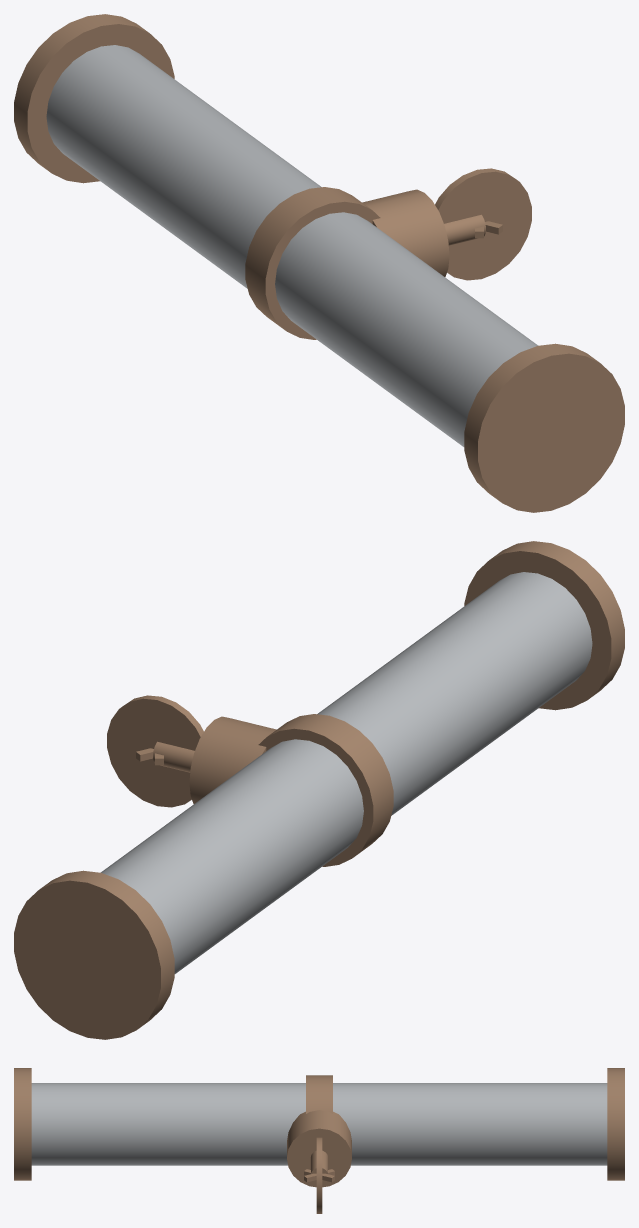
Rendered from PR_pipe_kit.fbx.
3 views of the same model, one above another, from view 1: azimuth 30°, elevation 25°; view 2: azimuth 150°, elevation 25°; view 3: azimuth 270°, elevation 25° (orthographic). The views are drawn at different scales.
Visible parts, largest first — view 1: PR_pipe_kit; view 2: PR_pipe_kit; view 3: PR_pipe_kit.
Part boxes in pixels (<box>): PR_pipe_kit: <box>14,14,624,512</box>; PR_pipe_kit: <box>14,541,624,1039</box>; PR_pipe_kit: <box>14,1068,624,1213</box>.
Size of the model in its own units: 0.7273 by 0.38 by 2.06.
